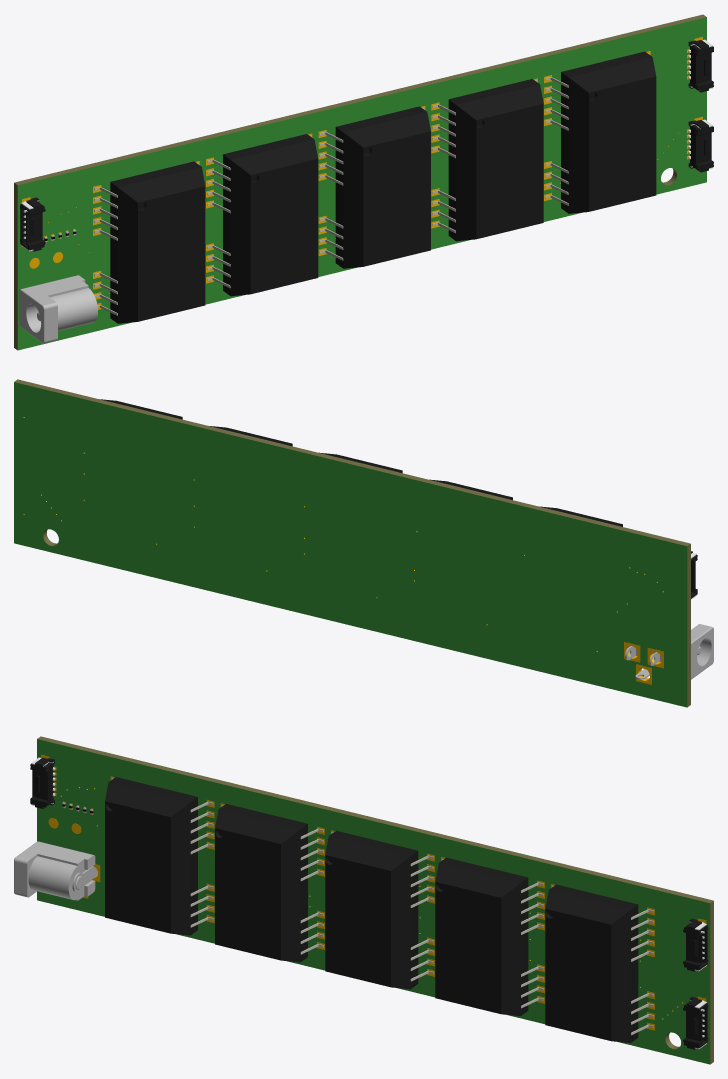
File: lighting_power_brd.fbx
3 renders of one model, top to bottom at view 1: azimuth 30°, elevation 25°; view 2: azimuth 150°, elevation 25°; view 3: azimuth 330°, elevation 25°, orthographic. The views are drawn at different scales.
Parts seen in each view (by area): view 1: Body1 (×7), Board, Body15 (×3), Body5; view 2: Body1 (×2), Board; view 3: Body1 (×7), Board, Body15 (×3), Body5.
Boxes of the visible parts, x1=… form: Body1 (×7): x1=17, y1=17, x2=706, y2=350; Board: x1=14, y1=14, x2=706, y2=349; Body15 (×3): x1=20, y1=40, x2=713, y2=251; Body5: x1=22, y1=37, x2=702, y2=309; Body1 (×2): x1=14, y1=382, x2=713, y2=707; Board: x1=14, y1=379, x2=690, y2=707; Body1 (×7): x1=14, y1=739, x2=710, y2=1064; Board: x1=37, y1=736, x2=713, y2=1064; Body15 (×3): x1=30, y1=757, x2=708, y2=1049; Body5: x1=41, y1=754, x2=706, y2=1045.
Size of the model in its own units: 17.08 by 3.91 by 1.5.
